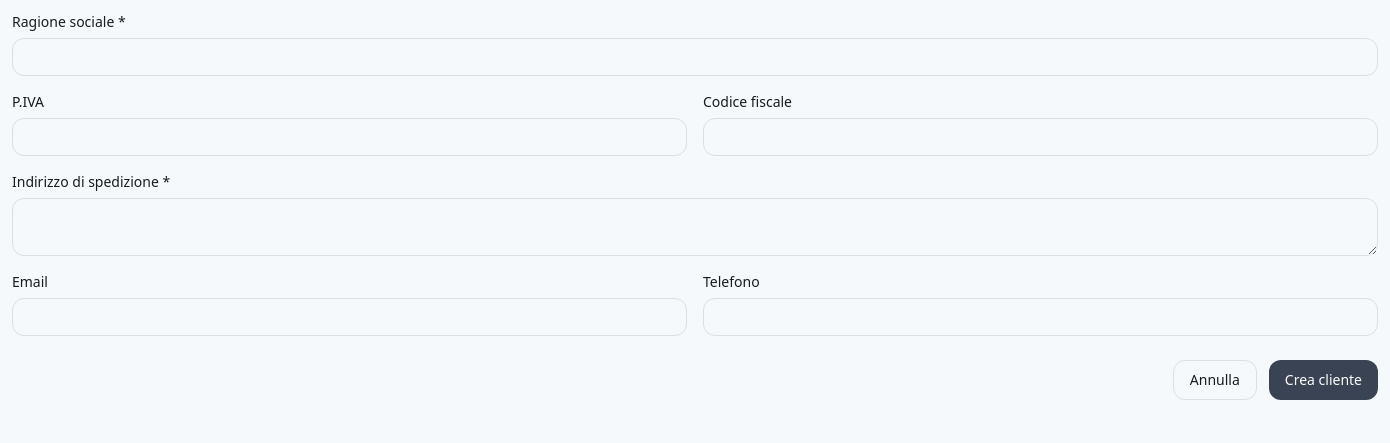
Test: CustomerForm › richiede anche l'indirizzo di spedizione
In the field labelled "Ragione sociale *": (695, 57) [12,38,1378,76], type "Acme"
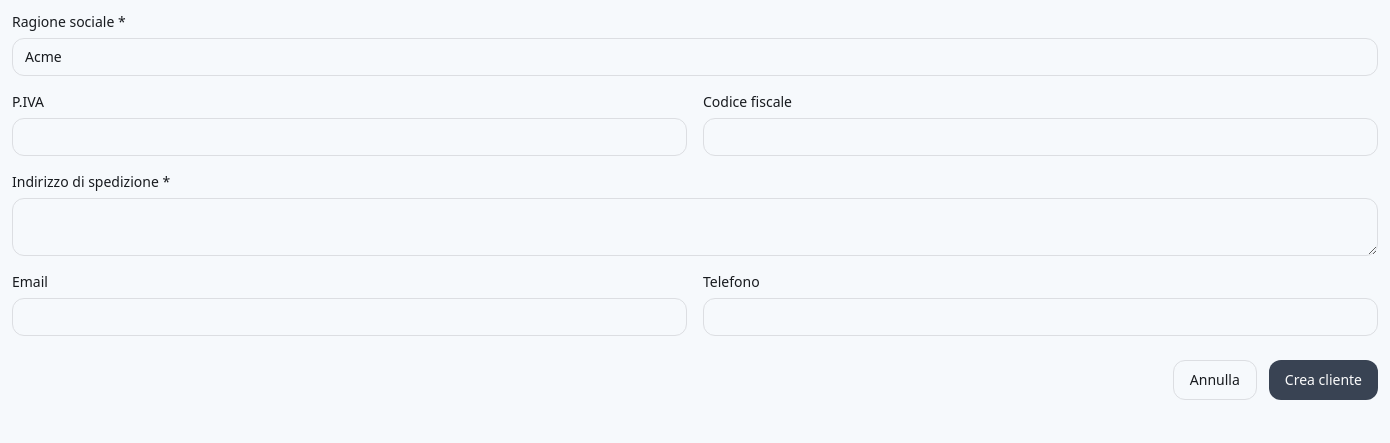
Click the button "Crea cliente": (1323, 380) [1269,360,1378,400]
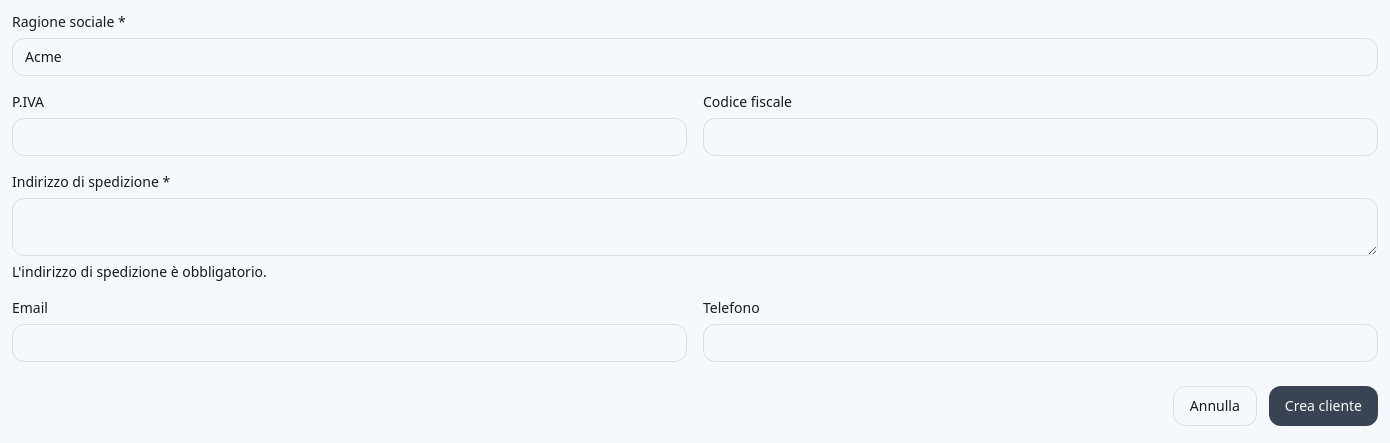
Check: the text "L'indirizzo di spedizione è obbligatorio." is shown, box [12,262,267,281]
